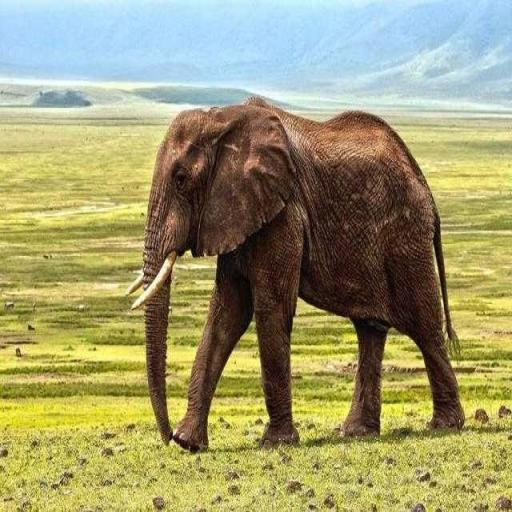Elephant: (126, 94, 464, 452)
